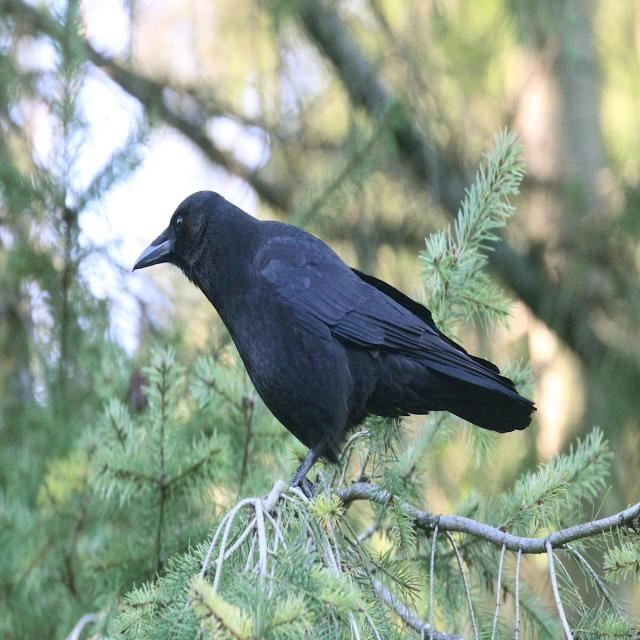crow: (162, 214, 446, 489)
